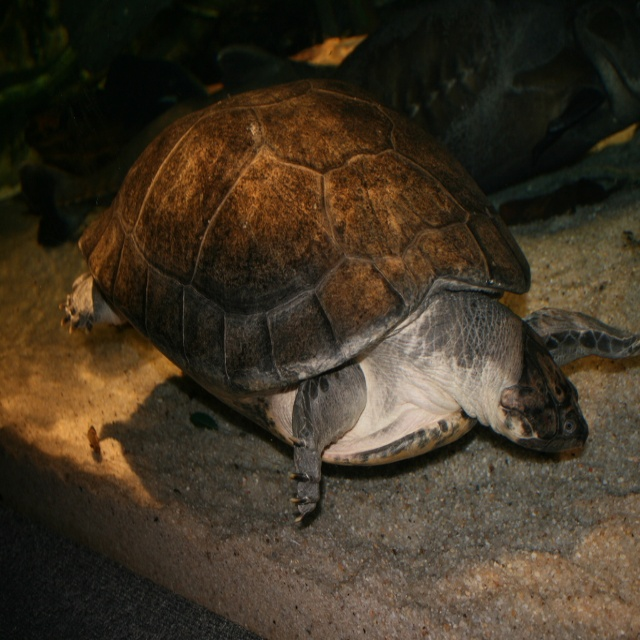Sea turtle: (56, 76, 640, 524)
